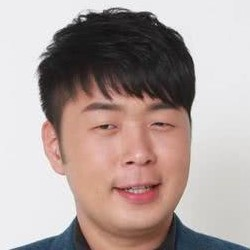unmask: (54, 77, 192, 230)
